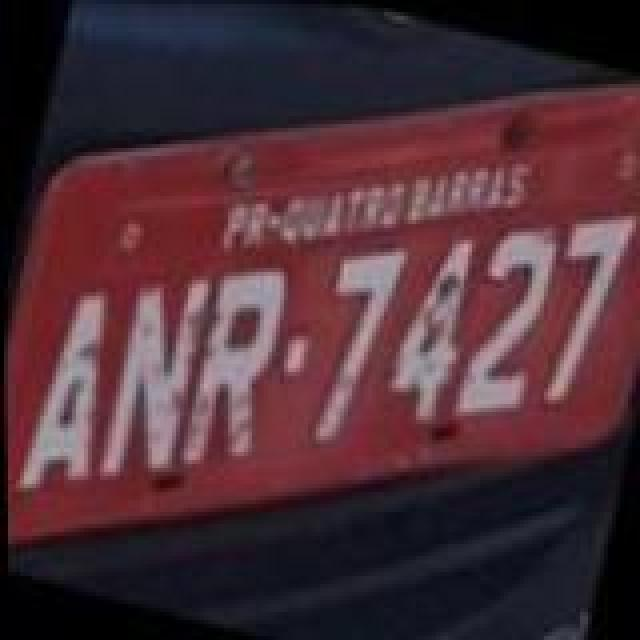2: (442, 210, 566, 430)
4: (370, 222, 486, 430)
7: (286, 224, 410, 452), (522, 194, 638, 414)
A: (4, 276, 128, 508)
N: (88, 254, 212, 494)
R: (168, 252, 292, 480)
